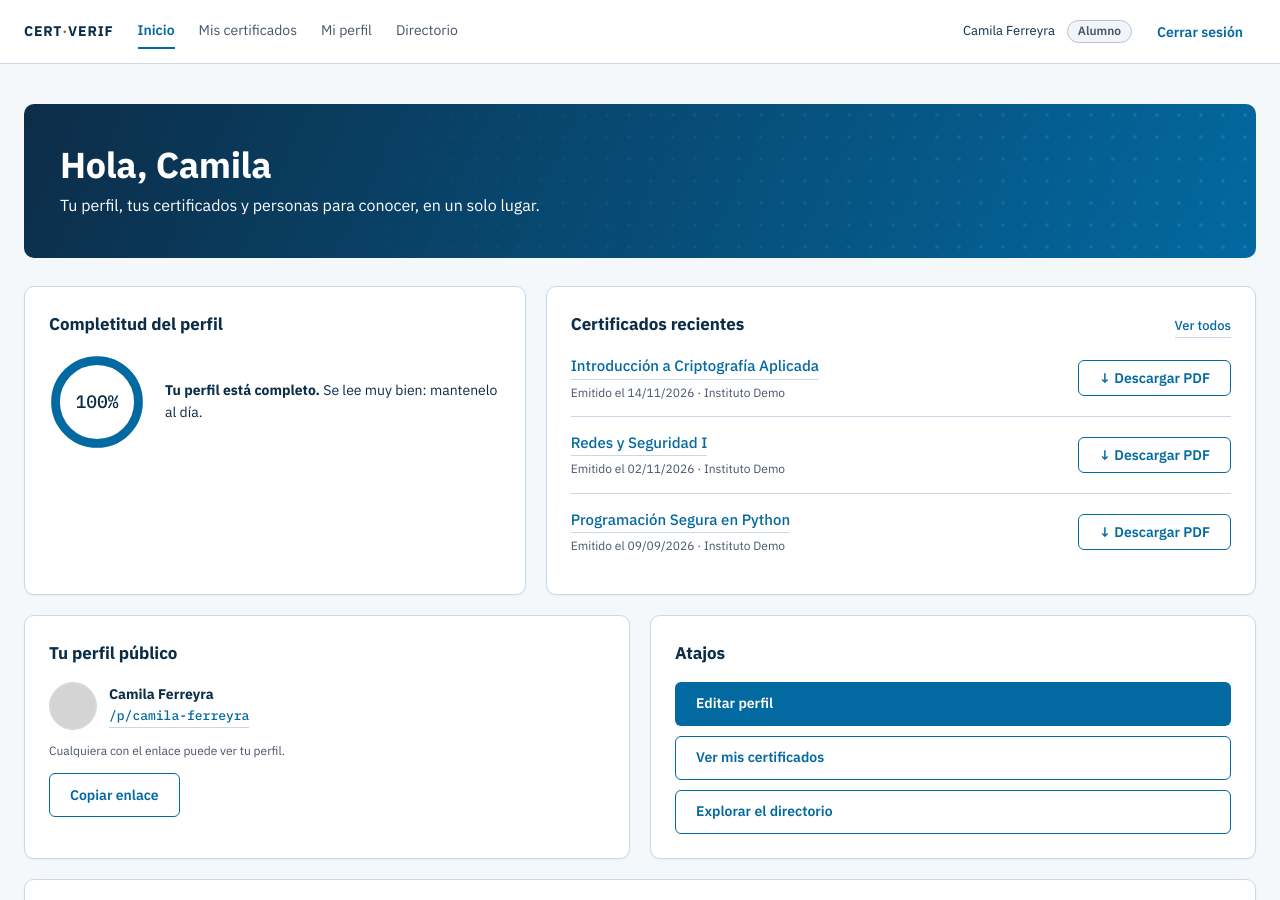
Test case: Inicio de alumno › descarga fallida muestra el error en la tarjeta y se puede reintentar
The width and height of the screenshot is (1280, 900).
Click the button "↓ Descargar PDF" in the row of "Introducción a Criptografía Aplicada" at (1154, 378), box x1=1078 y1=360 x2=1231 y2=396
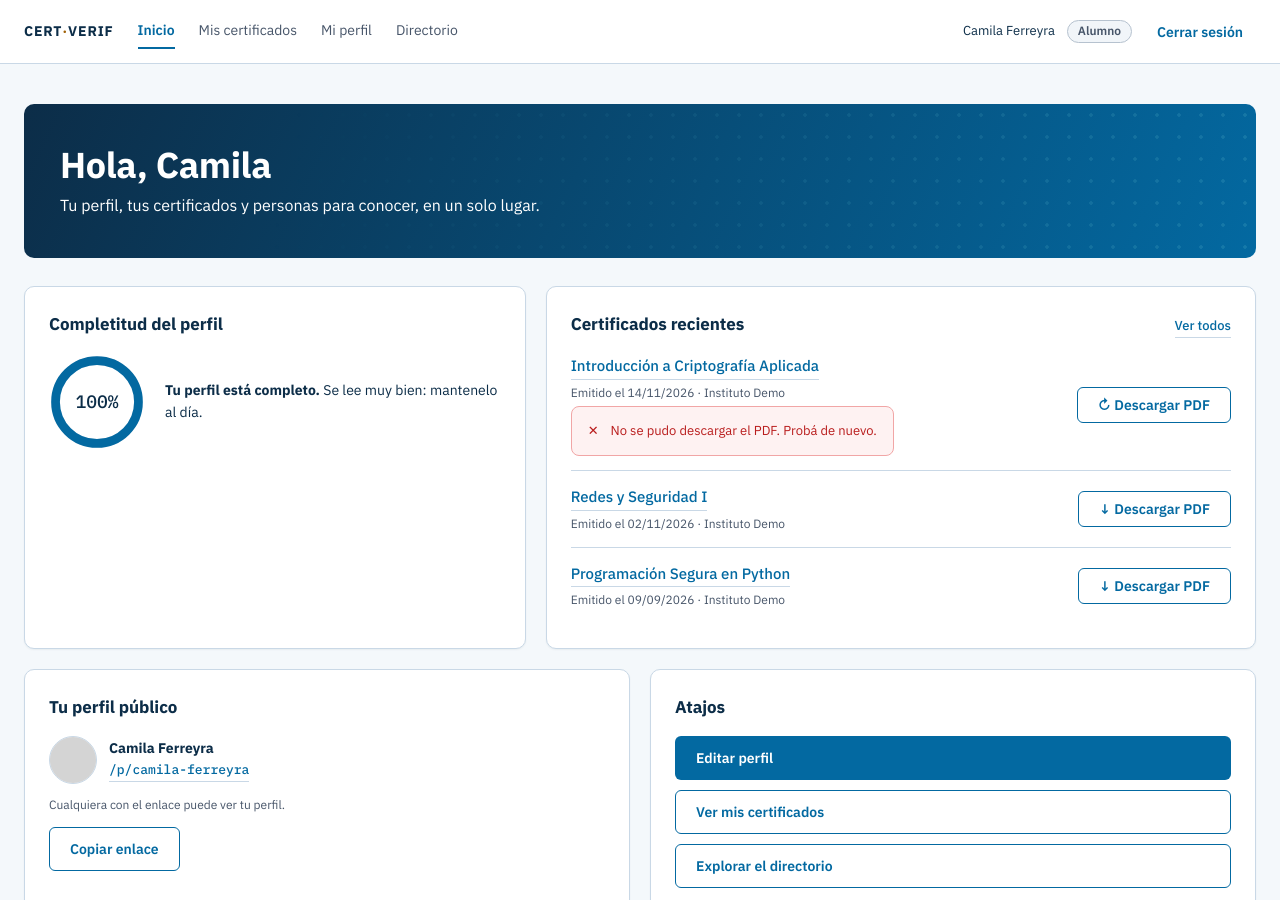
Now the text "No se pudo descargar el PDF. Probá de nuevo." is shown, box x1=611 y1=421 x2=877 y2=441
Click the button with aria-label "Reintentar descarga" at (1154, 405), box x1=1077 y1=387 x2=1231 y2=423
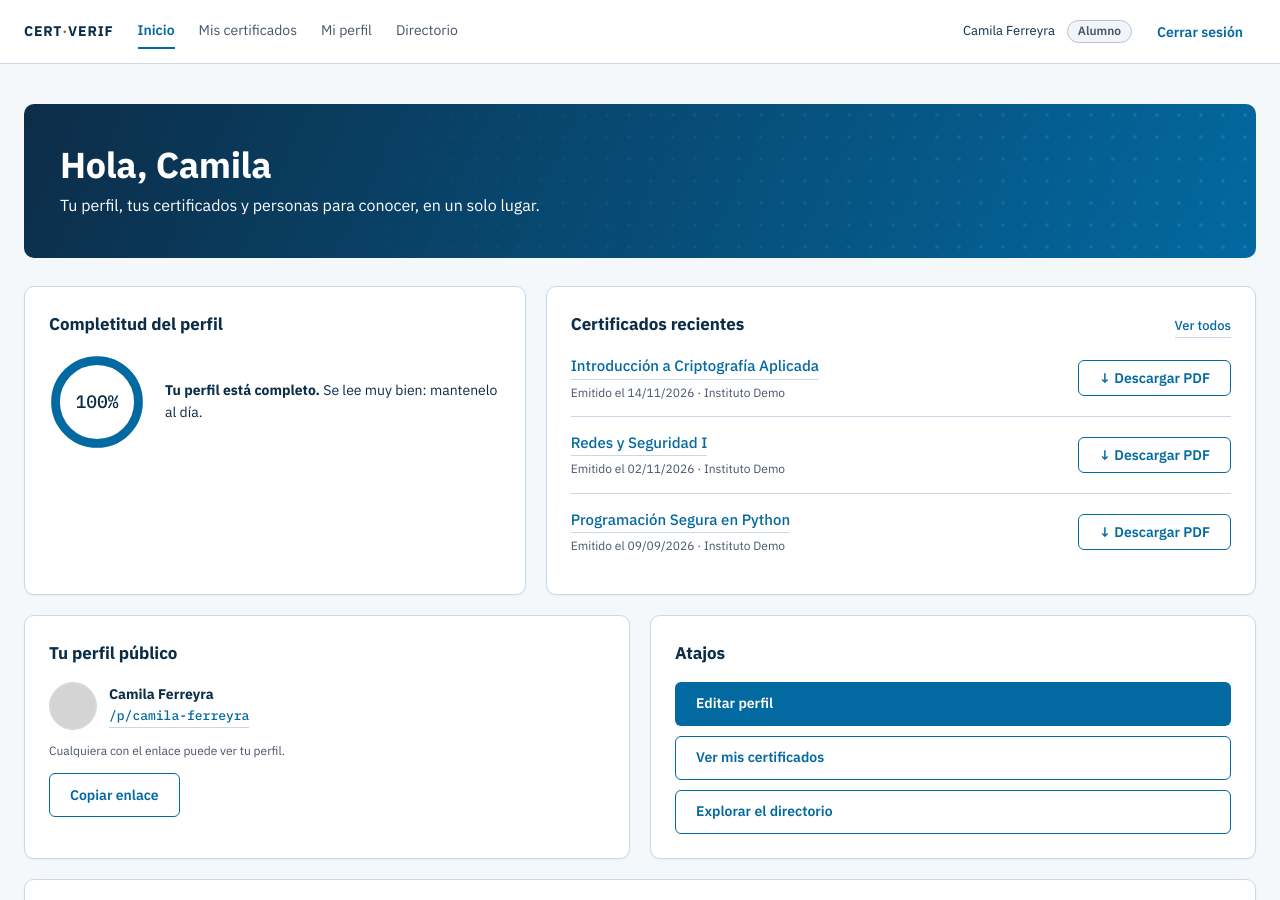
Now the text "No se pudo descargar el PDF. Probá de nuevo." is gone
